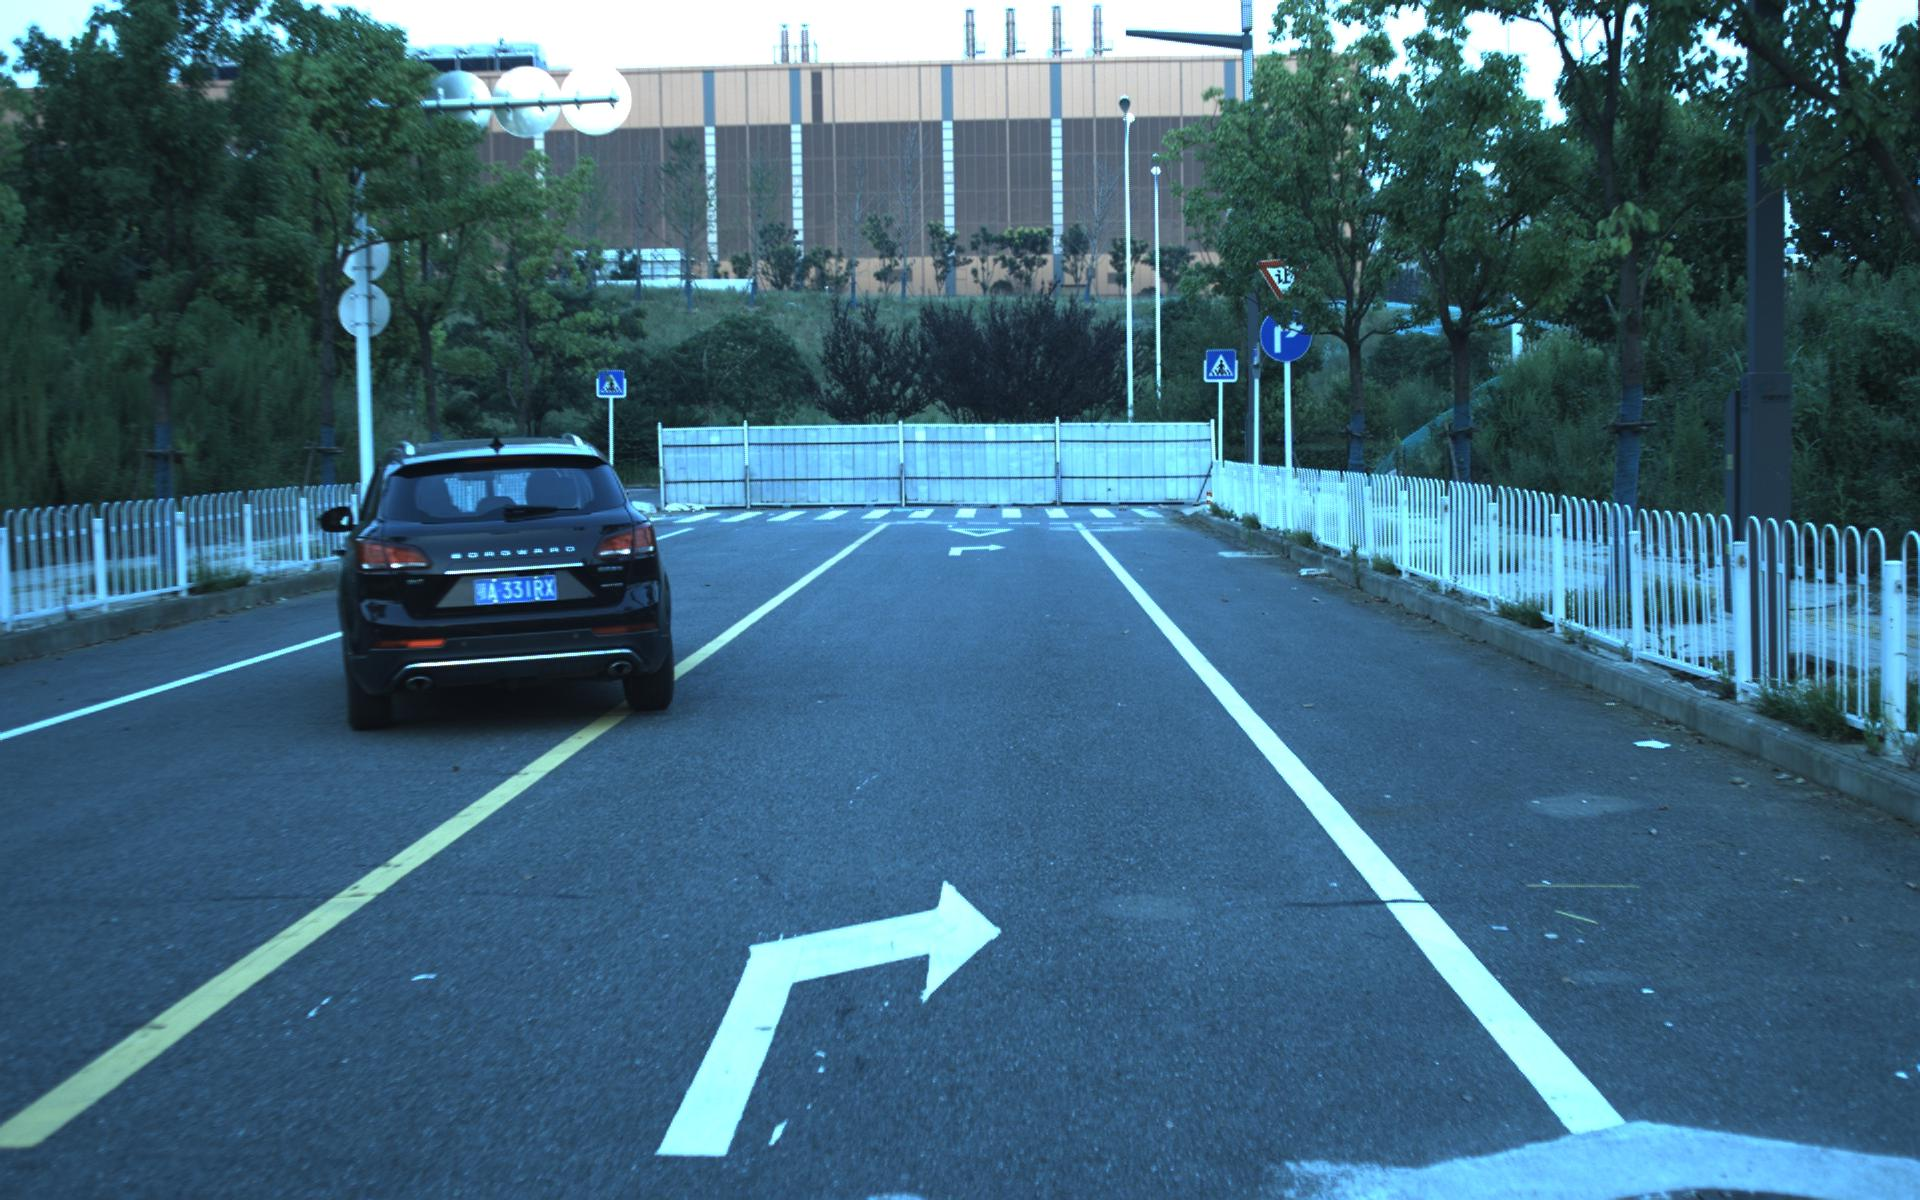Car: (328, 429, 683, 733)
